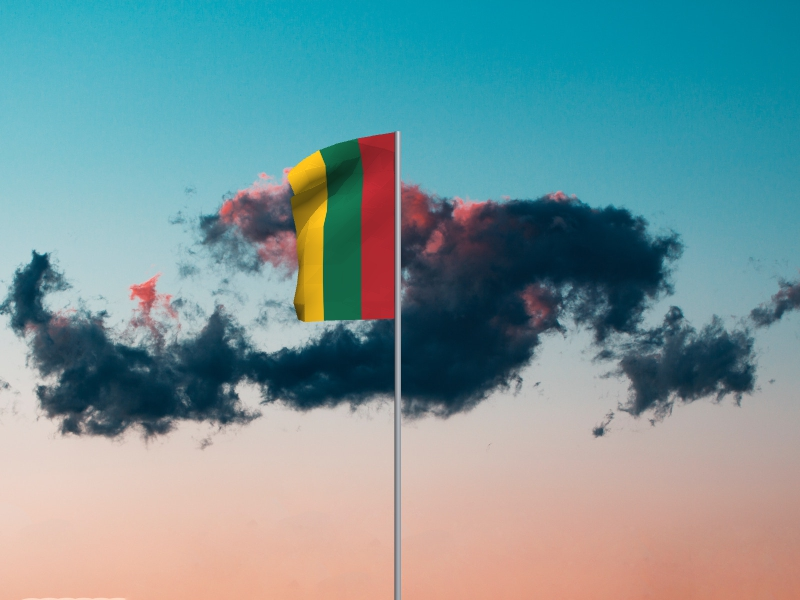lt: (287, 133, 394, 324)
